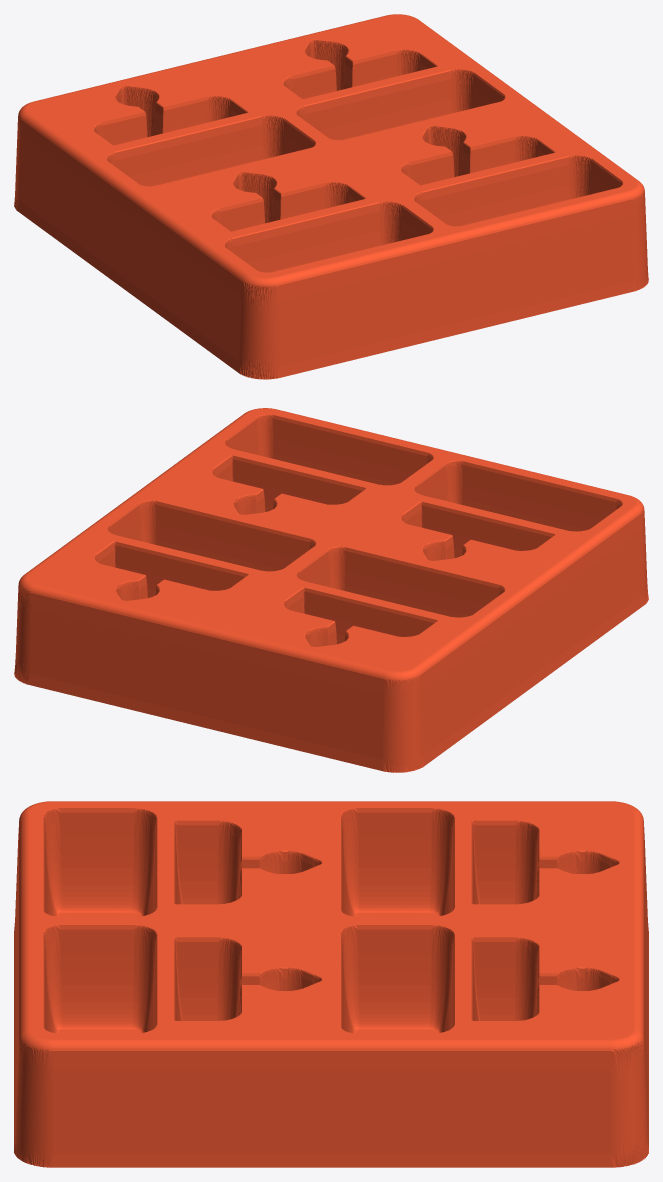
The model's file is mold.glb.
The picture shows the model from 3 angles, top to bottom: view 1: azimuth 30°, elevation 25°; view 2: azimuth 150°, elevation 25°; view 3: azimuth 270°, elevation 25°; orthographic projection. The views are drawn at different scales.
Visible parts, largest first — view 1: geometry_0; view 2: geometry_0; view 3: geometry_0.
Boxes of the visible parts, x1,y1,x2,y2 form: geometry_0: (14,14,648,379); geometry_0: (14,408,648,772); geometry_0: (14,801,648,1167).
Bounding box in the file's own units: 0.1369 × 0.031 × 0.1466.
